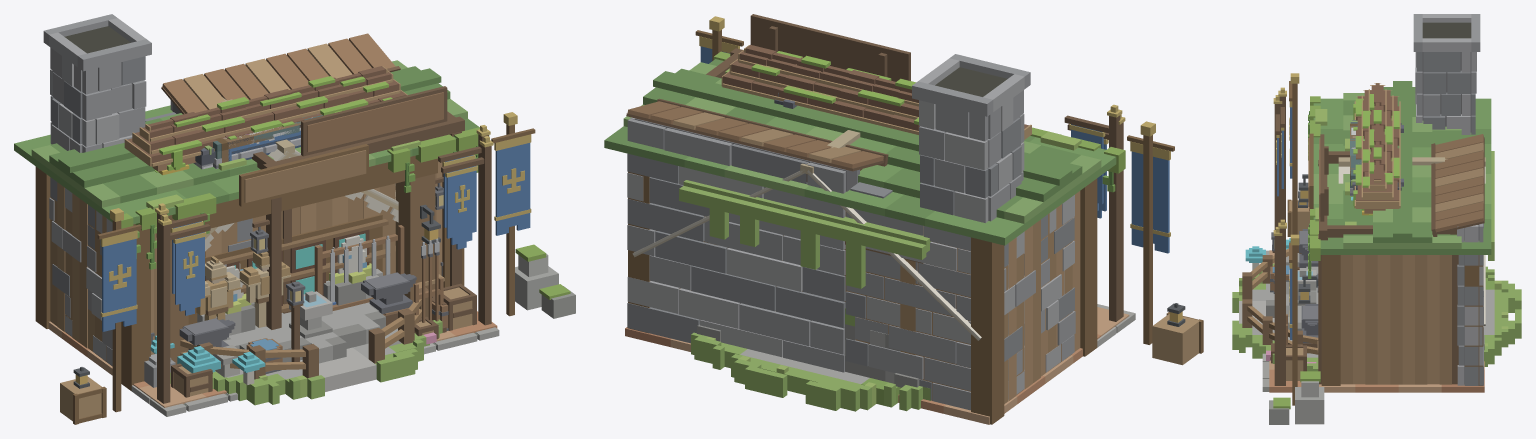
The model's file is lobby_signs_v4_roblox.glb.
3 renders of one model, left to right at view 1: azimuth 30°, elevation 25°; view 2: azimuth 150°, elevation 25°; view 3: azimuth 270°, elevation 25°, orthographic. The views are drawn at different scales.
Visible parts, largest first — view 1: DexHall, Blacksmith, GearStation, EggHatchery, Leaderboard, EggHatchery_Glow, PortalArch_BogheartCaverns, DexHall_Glow, PortalArch_FrostpeakPass, PortalArch_ShatteredKingdom; view 2: Blacksmith, DexHall, EggHatchery, Leaderboard, GearStation; view 3: DexHall, Blacksmith, EggHatchery, Leaderboard, GearStation, EggHatchery_Glow, PortalArch_DrownedVillage.
Part boxes in pixels (box(x1,y1,x2,y2)): DexHall: box(14, 60, 575, 424); Blacksmith: box(43, 14, 497, 407); GearStation: box(151, 97, 493, 403); EggHatchery: box(156, 235, 442, 405); Leaderboard: box(124, 66, 407, 185); EggHatchery_Glow: box(150, 263, 371, 373); PortalArch_BogheartCaverns: box(195, 121, 300, 165); DexHall_Glow: box(75, 228, 438, 384); PortalArch_FrostpeakPass: box(203, 127, 300, 168); PortalArch_ShatteredKingdom: box(193, 138, 300, 169); Blacksmith: box(625, 14, 1129, 424); DexHall: box(604, 16, 1203, 424); EggHatchery: box(679, 180, 930, 411); Leaderboard: box(721, 45, 1031, 139); GearStation: box(632, 114, 1125, 340); DexHall: box(1262, 73, 1491, 424); Blacksmith: box(1269, 14, 1484, 392); EggHatchery: box(1232, 151, 1521, 371); Leaderboard: box(1353, 83, 1400, 215); GearStation: box(1270, 95, 1485, 385); EggHatchery_Glow: box(1245, 238, 1312, 279); PortalArch_DrownedVillage: box(1350, 122, 1364, 187).
Bounding box in the file's own units: 8.84 × 5 × 5.38.
